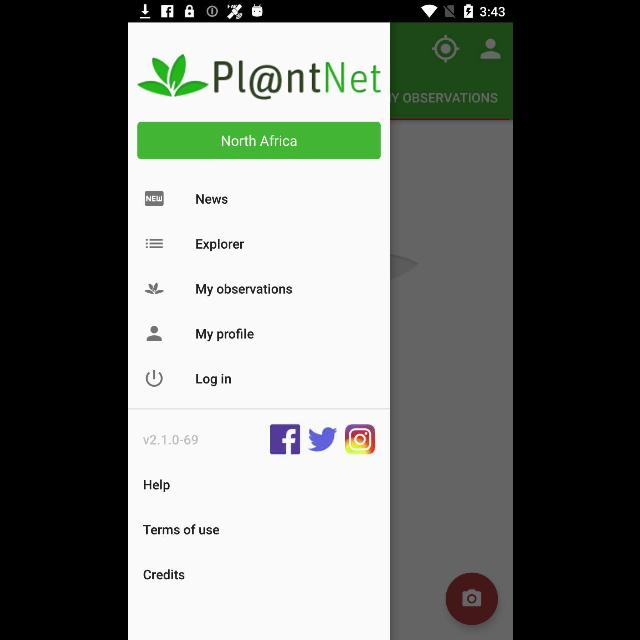icon: (270, 425, 300, 455), (307, 428, 337, 452), (146, 325, 162, 341), (146, 239, 162, 249)
image: (136, 54, 380, 100), (344, 424, 374, 454), (144, 370, 162, 388), (144, 192, 164, 206), (144, 283, 164, 295)
panel: (128, 22, 388, 640)
text: (195, 283, 292, 297), (143, 524, 220, 536), (194, 328, 253, 342), (196, 238, 244, 252), (142, 434, 198, 446), (195, 373, 231, 387), (142, 570, 184, 580), (195, 193, 227, 204), (142, 480, 170, 492)
textbutton: (136, 122, 380, 160)
uppertaskbar: (128, 1, 512, 23)
